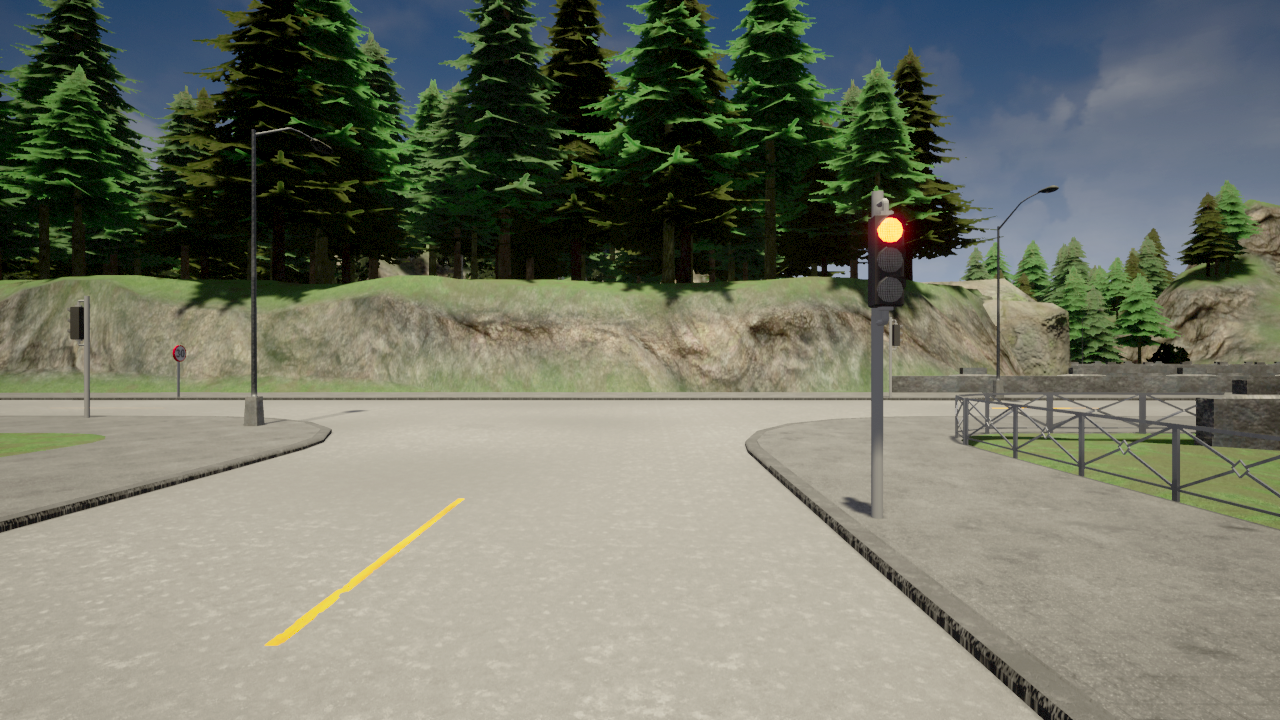red: (865, 214, 907, 307)
